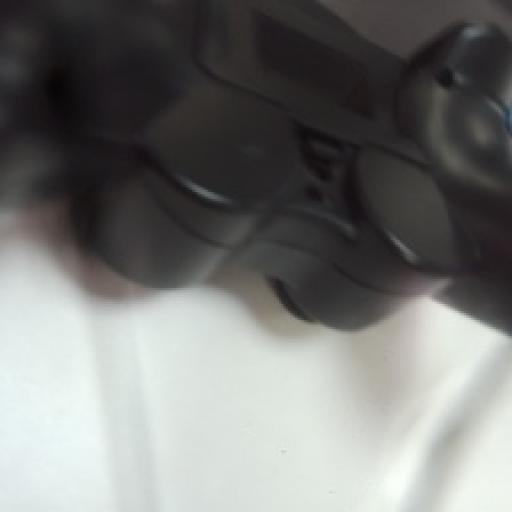game pad: (0, 0, 510, 331)
